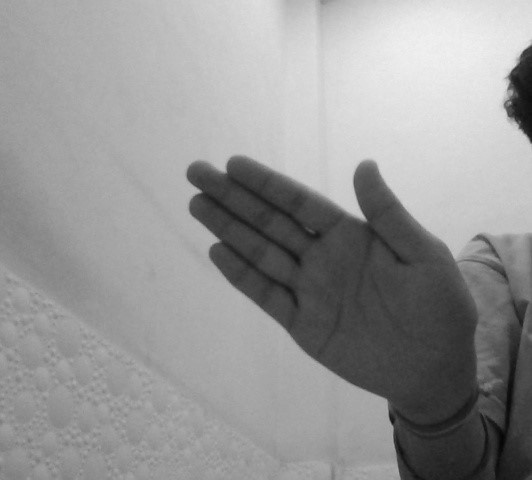Hello: (184, 154, 482, 405)
